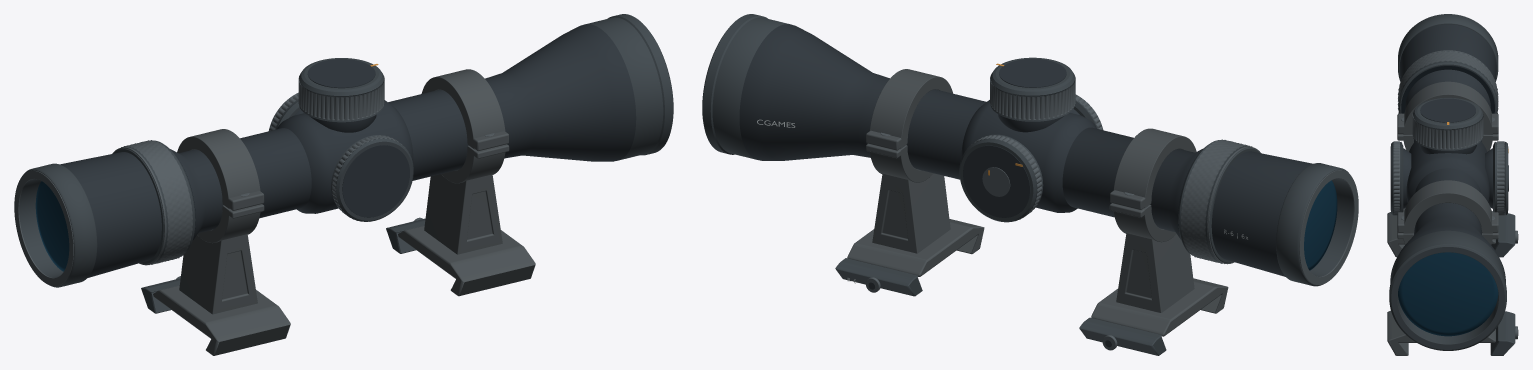
File: R6_X50_Rail.fbx
3 renders of one model, left to right at view 1: azimuth 30°, elevation 25°; view 2: azimuth 150°, elevation 25°; view 3: azimuth 270°, elevation 25°, orthographic. The views are drawn at different scales.
Parts seen in each view (by area): view 1: 01 MAIN SHELL, 02 FRONT COLLAR, 07 SUPPORT 1, 07 SUPPORT 2, 02d REAR COLLAR, 03 CENTRE BODY, 08.1 LOCAL BASE FIXED EDGE, 08.2 LOCAL BASE FIXED EDGE, 05 LEFT FACE, 13 FOCUS DIAMOND DEPRESSIONS, 06 RING 1 UPPER, 06 RING 2 UPPER (+14 smaller); view 2: 01 MAIN SHELL, 02 FRONT COLLAR, 07 SUPPORT 1, 07 SUPPORT 2, 02d REAR COLLAR, 03 CENTRE BODY, 08.2 LOCAL BASE FIXED EDGE, 08.1 LOCAL BASE FIXED EDGE, 05 RIGHT FACE, 13 FOCUS DIAMOND DEPRESSIONS, 06 RING 1 UPPER, 06 RING 2 UPPER (+15 smaller); view 3: 11 FRONT VISUAL PANE, 01 MAIN SHELL, 02 FRONT COLLAR, 06 RING 1 UPPER, 03 CENTRE BODY, 06 RING 2 UPPER, 04c TOP GRIP VALLEYS, 02d REAR COLLAR, 13 FOCUS DIAMOND DEPRESSIONS, 04d TOP FACE, 04b TOP CAP, 09.1 LOCAL SIDE STRIP (+19 smaller).
Boxes of the visible parts, bbox=[...] form: 01 MAIN SHELL: bbox=[60, 24, 636, 277]; 02 FRONT COLLAR: bbox=[584, 14, 673, 160]; 07 SUPPORT 1: bbox=[424, 174, 502, 254]; 07 SUPPORT 2: bbox=[179, 234, 257, 314]; 02d REAR COLLAR: bbox=[19, 163, 97, 287]; 03 CENTRE BODY: bbox=[277, 100, 413, 213]; 08.1 LOCAL BASE FIXED EDGE: bbox=[398, 225, 535, 296]; 08.2 LOCAL BASE FIXED EDGE: bbox=[153, 285, 290, 355]; 05 LEFT FACE: bbox=[342, 145, 409, 217]; 13 FOCUS DIAMOND DEPRESSIONS: bbox=[121, 140, 192, 264]; 06 RING 1 UPPER: bbox=[421, 69, 505, 149]; 06 RING 2 UPPER: bbox=[177, 129, 260, 208]; 01 MAIN SHELL: bbox=[739, 24, 1313, 276]; 02 FRONT COLLAR: bbox=[702, 14, 789, 159]; 07 SUPPORT 1: bbox=[872, 173, 950, 253]; 07 SUPPORT 2: bbox=[1116, 233, 1194, 312]; 02d REAR COLLAR: bbox=[1276, 163, 1353, 286]; 03 CENTRE BODY: bbox=[961, 100, 1096, 212]; 08.2 LOCAL BASE FIXED EDGE: bbox=[1091, 278, 1228, 336]; 08.1 LOCAL BASE FIXED EDGE: bbox=[847, 219, 984, 276]; 05 RIGHT FACE: bbox=[963, 145, 1030, 217]; 13 FOCUS DIAMOND DEPRESSIONS: bbox=[1181, 139, 1252, 263]; 06 RING 1 UPPER: bbox=[869, 69, 952, 148]; 06 RING 2 UPPER: bbox=[1113, 128, 1196, 208]; 11 FRONT VISUAL PANE: bbox=[1398, 252, 1498, 336]; 01 MAIN SHELL: bbox=[1390, 24, 1504, 275]; 02 FRONT COLLAR: bbox=[1389, 230, 1506, 350]; 06 RING 1 UPPER: bbox=[1403, 180, 1492, 233]; 03 CENTRE BODY: bbox=[1406, 141, 1489, 202]; 06 RING 2 UPPER: bbox=[1403, 81, 1492, 134]; 04c TOP GRIP VALLEYS: bbox=[1412, 114, 1483, 149]; 02d REAR COLLAR: bbox=[1398, 14, 1498, 81]; 13 FOCUS DIAMOND DEPRESSIONS: bbox=[1397, 51, 1498, 113]; 04d TOP FACE: bbox=[1420, 98, 1475, 122]; 04b TOP CAP: bbox=[1413, 97, 1483, 150]; 09.1 LOCAL SIDE STRIP: bbox=[1490, 311, 1515, 355].
Bounding box in the file's own units: 30.3 × 10.75 × 7.03.
